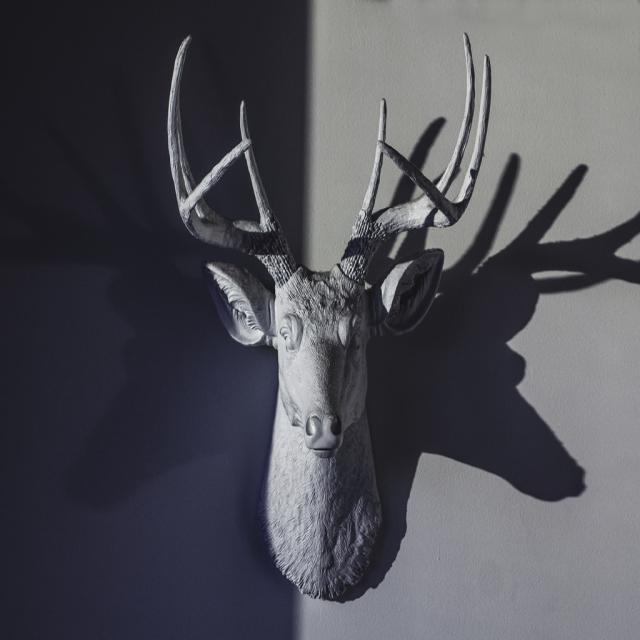Deer: (167, 32, 491, 600)
